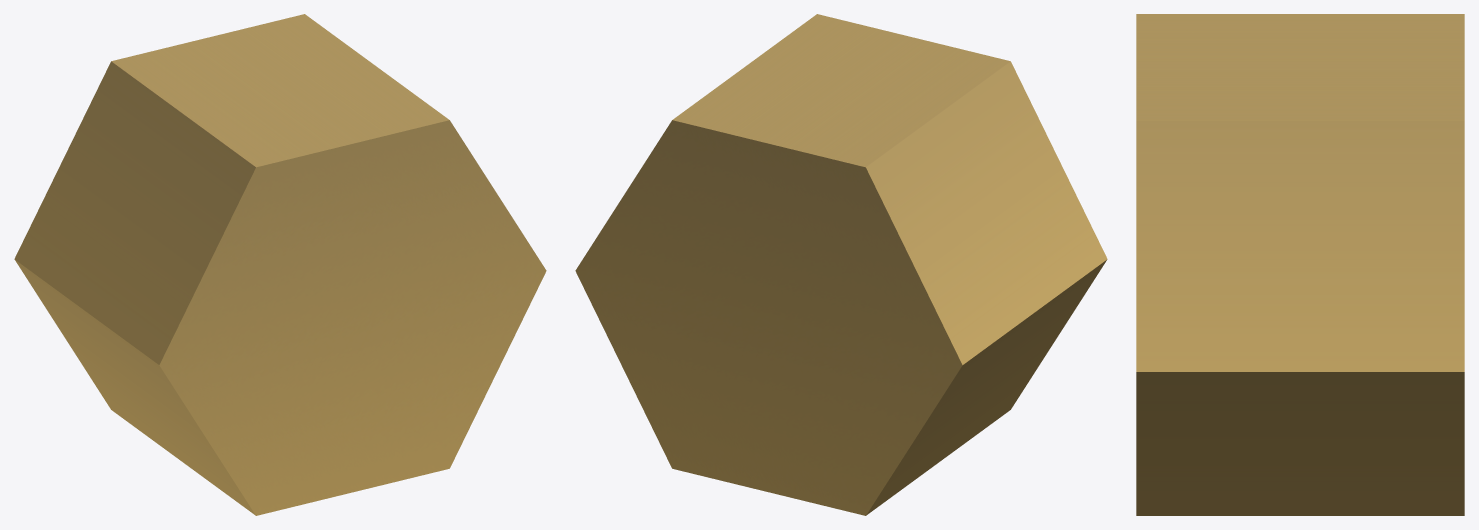
Rendered from axle_hor_base.glb.
3 renders of one model, left to right at view 1: azimuth 30°, elevation 25°; view 2: azimuth 150°, elevation 25°; view 3: azimuth 270°, elevation 25°, orthographic. The views are drawn at different scales.
Parts seen in each view (by area): view 1: AxleHor_base; view 2: AxleHor_base; view 3: AxleHor_base.
Part boxes in pixels (x1,y1,x2,y2): AxleHor_base: [14, 14, 546, 515]; AxleHor_base: [575, 14, 1107, 515]; AxleHor_base: [1136, 14, 1464, 515].
Size of the model in its own units: 0.7711 by 0.6632 by 0.5.
Materials: 1 (1 with a texture image).
